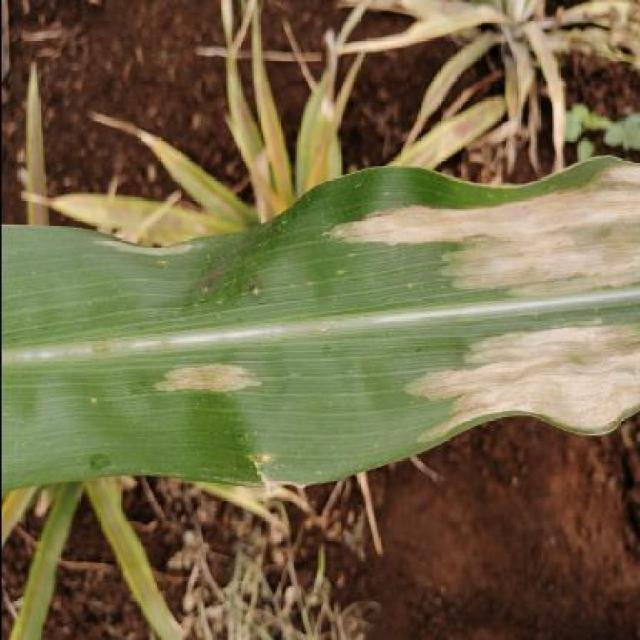Corn_Leaf_Blight: (0, 158, 640, 497)
